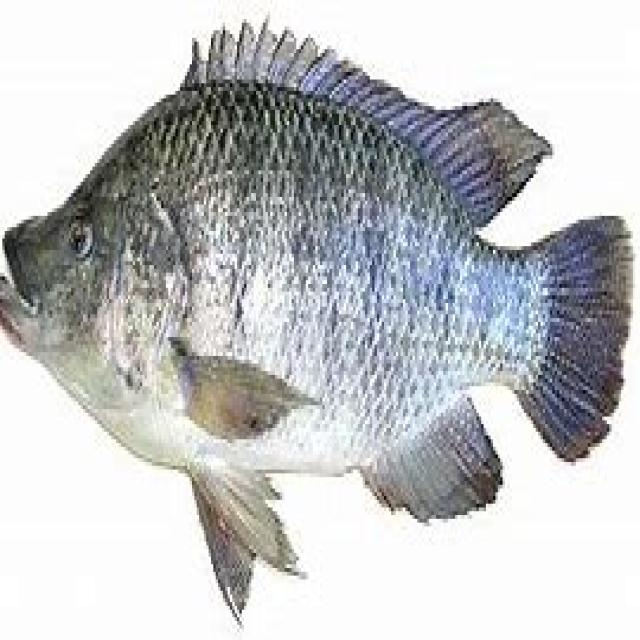Tilapia: (0, 27, 631, 627)
